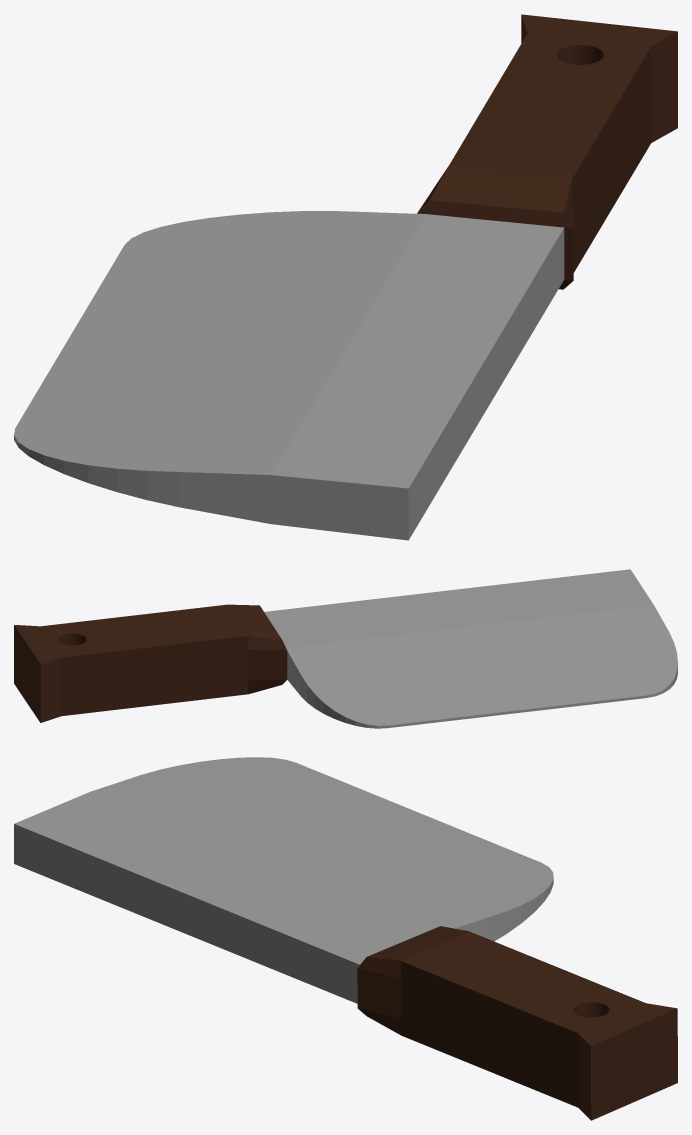
3 views of the same model, one above another, from view 1: azimuth 30°, elevation 25°; view 2: azimuth 150°, elevation 25°; view 3: azimuth 270°, elevation 25° (orthographic). The views are drawn at different scales.
Visible parts, largest first — view 1: Plane.022; view 2: Plane.022; view 3: Plane.022.
Boxes of the visible parts, bbox=[...] form: Plane.022: bbox=[14, 14, 677, 540]; Plane.022: bbox=[14, 569, 677, 728]; Plane.022: bbox=[14, 757, 677, 1120].
Size of the model in its own units: 77.89 by 8.43 by 67.18.
